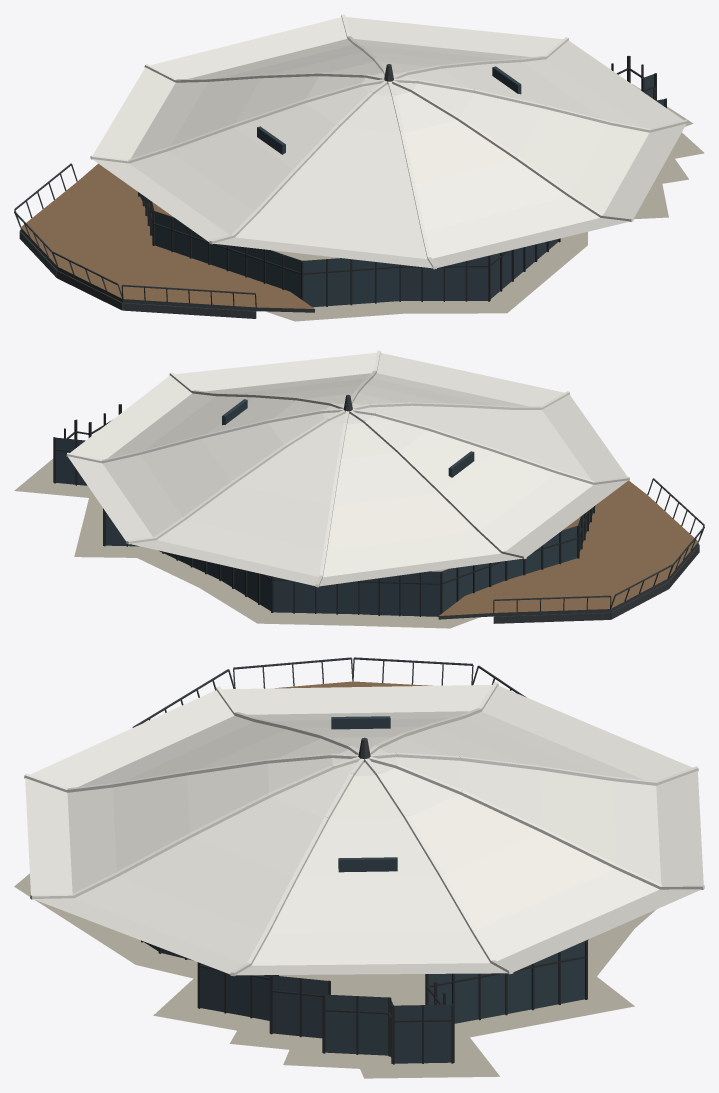
Rendered from serpentine_bar_kitchen.glb.
The picture shows the model from 3 angles, top to bottom: view 1: azimuth 30°, elevation 25°; view 2: azimuth 150°, elevation 25°; view 3: azimuth 270°, elevation 25°; orthographic projection. The views are drawn at different scales.
Size of the model in its own units: 45.67 by 9.32 by 35.01.
